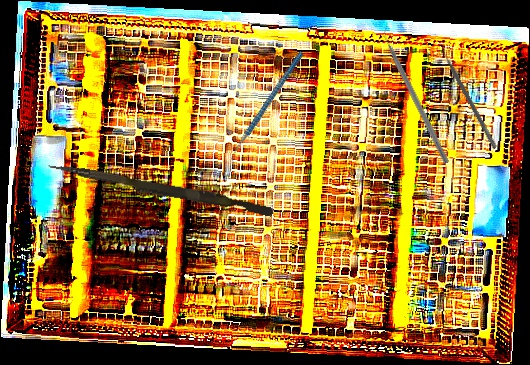Chopper: (201, 51, 333, 168), (377, 21, 457, 165)
Pusher: (46, 162, 275, 217)
Spatula Surgical: (437, 44, 503, 150)
